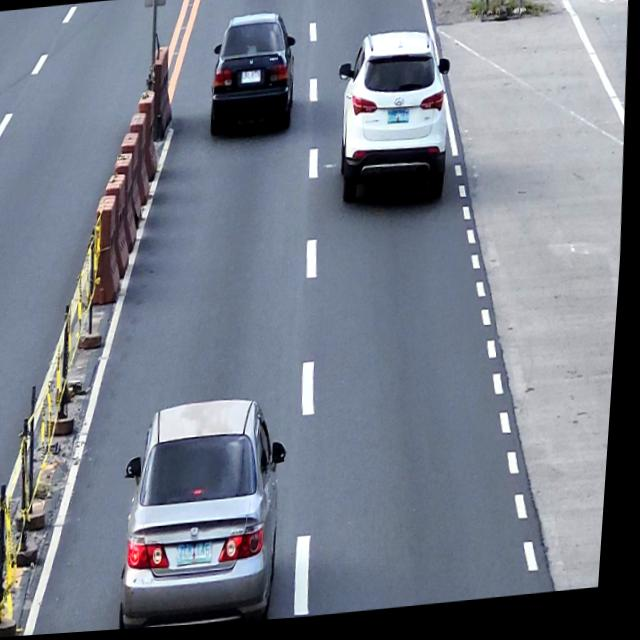Car: (117, 395, 301, 632), (331, 30, 459, 219), (207, 12, 302, 142)
License-Plate: (183, 541, 220, 567), (388, 113, 412, 131), (241, 73, 262, 88)
